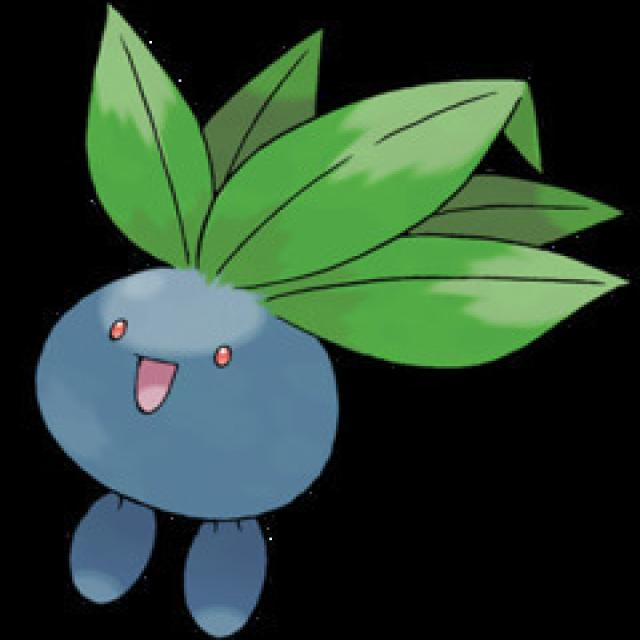Oddish: (40, 42, 353, 605)
